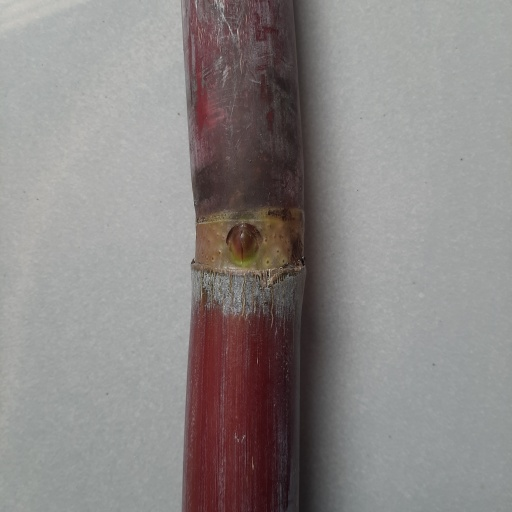Bud: (225, 223, 262, 266)
